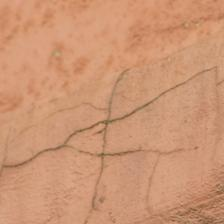Crack: (2, 0, 96, 109), (50, 33, 112, 187), (0, 66, 66, 154)
